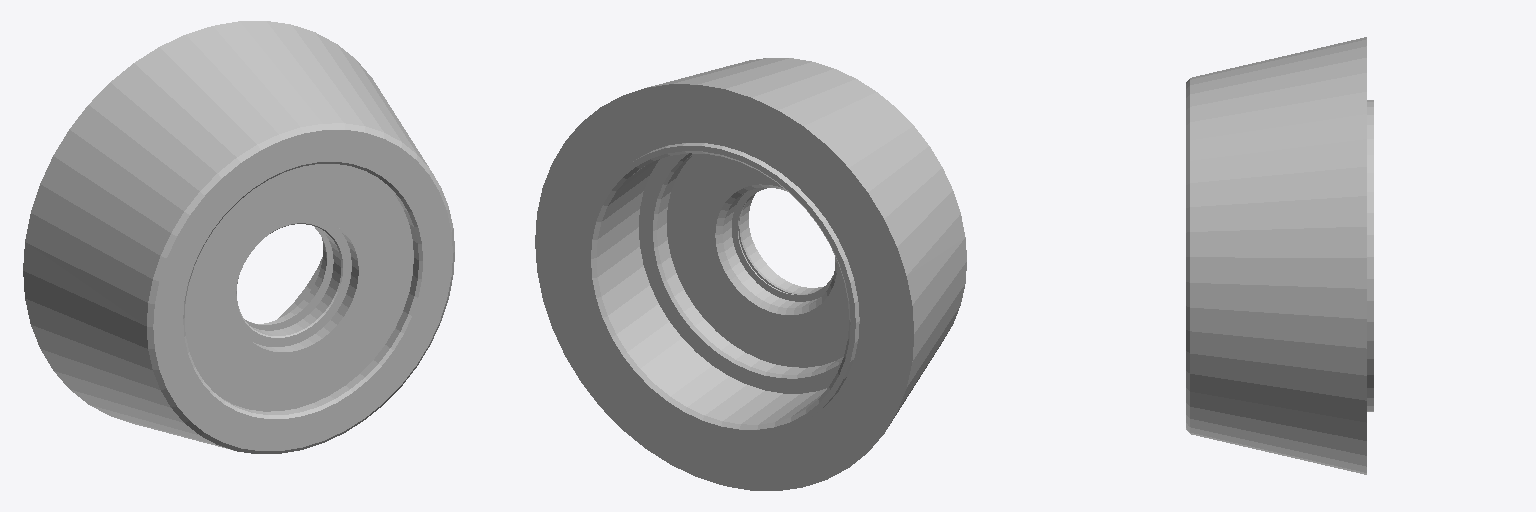
File: RSP1D_Lens.obj
3 views of the same model, side by side, from view 1: azimuth 30°, elevation 25°; view 2: azimuth 150°, elevation 25°; view 3: azimuth 270°, elevation 25° (orthographic).
Parts seen in each view (by area): view 1: polySurface1301 pCylinder133; view 2: polySurface1301 pCylinder133; view 3: polySurface1301 pCylinder133.
Part boxes in pixels (bbox=[...]): polySurface1301 pCylinder133: bbox=[23, 21, 454, 453]; polySurface1301 pCylinder133: bbox=[535, 58, 966, 490]; polySurface1301 pCylinder133: bbox=[1186, 37, 1373, 474].
Bounding box in the file's own units: 39.49 × 39.49 × 17.02.